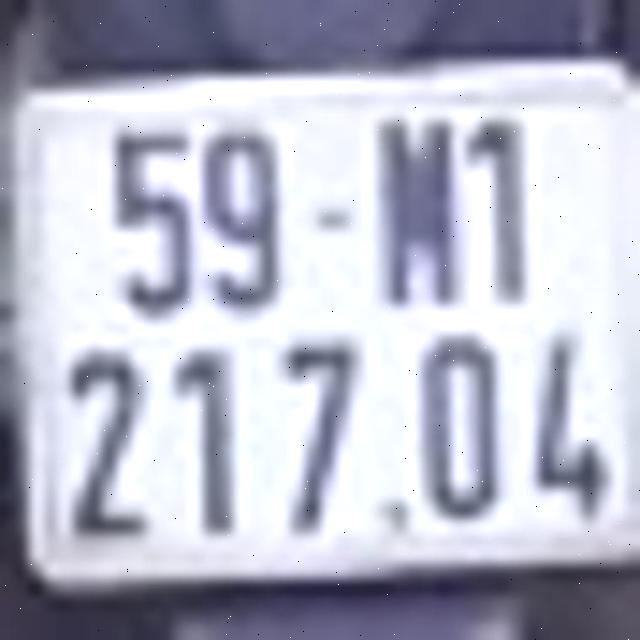0: (419, 328, 501, 522)
1: (173, 343, 243, 537), (468, 112, 533, 306)
2: (65, 346, 152, 539)
4: (532, 328, 612, 520)
5: (111, 127, 196, 318)
7: (278, 334, 359, 538)
9: (202, 126, 282, 312)
M: (378, 111, 458, 310)
